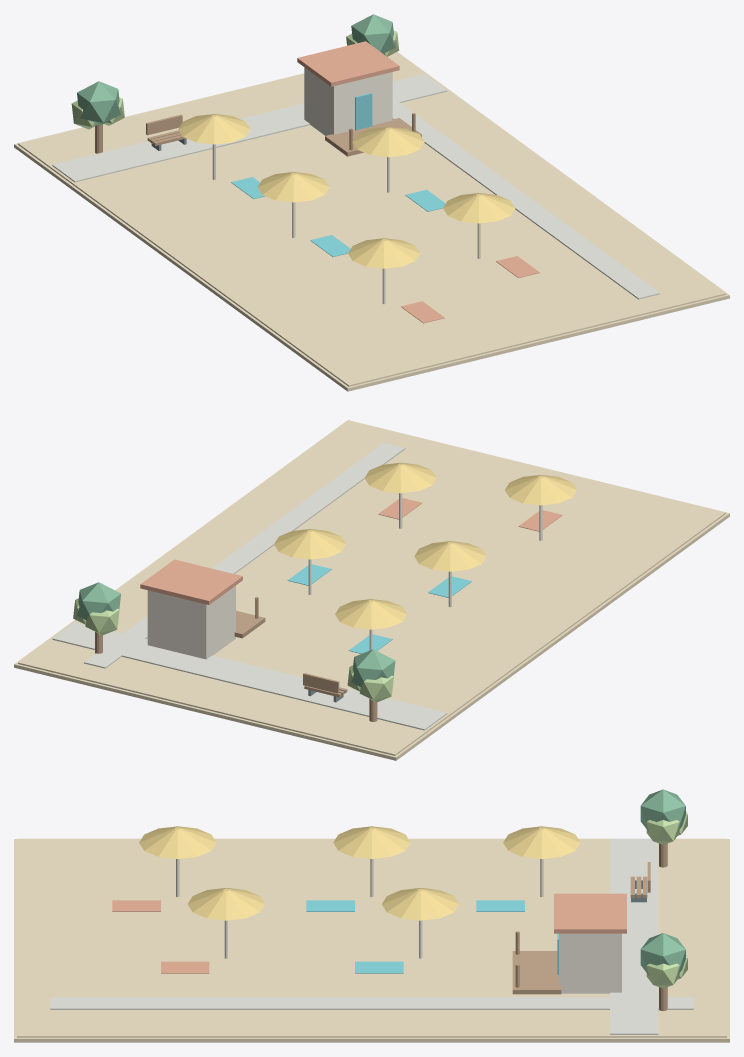
File: remaster_beach.glb
3 renders of one model, top to bottom at view 1: azimuth 30°, elevation 25°; view 2: azimuth 150°, elevation 25°; view 3: azimuth 270°, elevation 25°, orthographic. The views are drawn at different scales.
Parts seen in each view (by area): view 1: lot surface.003, walking path.005, walking path.004, lot foundation.003, lifeguard hut, hut roof, sun umbrella.005, sun umbrella.002, sun umbrella.004, sun umbrella.006, sun umbrella.003, tree canopy.024 (+3 smaller); view 2: lot surface.003, walking path.004, lifeguard hut, walking path.005, lot foundation.003, hut roof, sun umbrella.002, sun umbrella.005, sun umbrella.004, sun umbrella.006, sun umbrella.003, tree canopy.024 (+3 smaller); view 3: lot surface.003, walking path.005, walking path.004, lot foundation.003, lifeguard hut, hut roof, lifeguard deck, sun umbrella.003, sun umbrella.004, sun umbrella.005, sun umbrella.002, sun umbrella.006 (+9 smaller).
Part boxes in pixels (x1=…): lot surface.003: x1=18, y1=52, x2=725, y2=386; walking path.005: x1=392, y1=99, x2=659, y2=299; walking path.004: x1=52, y1=74, x2=447, y2=182; lot foundation.003: x1=14, y1=52, x2=729, y2=391; lifeguard hut: x1=304, y1=67, x2=392, y2=135; hut roof: x1=297, y1=41, x2=399, y2=86; sun umbrella.005: x1=352, y1=126, x2=424, y2=157; sun umbrella.002: x1=348, y1=238, x2=419, y2=268; sun umbrella.004: x1=257, y1=172, x2=329, y2=202; sun umbrella.006: x1=178, y1=114, x2=250, y2=144; sun umbrella.003: x1=443, y1=193, x2=514, y2=223; tree canopy.024: x1=77, y1=81, x2=120, y2=125; lot surface.003: x1=18, y1=420, x2=725, y2=755; walking path.004: x1=52, y1=622, x2=447, y2=730; lifeguard hut: x1=147, y1=586, x2=235, y2=659; walking path.005: x1=84, y1=443, x2=405, y2=668; lot foundation.003: x1=14, y1=420, x2=729, y2=760; hut roof: x1=140, y1=559, x2=242, y2=604; sun umbrella.002: x1=505, y1=475, x2=576, y2=505; sun umbrella.005: x1=274, y1=529, x2=346, y2=559; sun umbrella.004: x1=414, y1=541, x2=486, y2=571; sun umbrella.006: x1=335, y1=599, x2=407, y2=629; sun umbrella.003: x1=364, y1=462, x2=436, y2=493; tree canopy.024: x1=351, y1=649, x2=395, y2=687; lot surface.003: x1=17, y1=838, x2=726, y2=1037; walking path.005: x1=50, y1=997, x2=693, y2=1009; walking path.004: x1=610, y1=838, x2=658, y2=1034; lot foundation.003: x1=14, y1=839, x2=729, y2=1042; lifeguard hut: x1=559, y1=933, x2=621, y2=993; hut roof: x1=554, y1=893, x2=626, y2=933; lifeguard deck: x1=512, y1=951, x2=561, y2=994; sun umbrella.003: x1=187, y1=888, x2=264, y2=920; sun umbrella.004: x1=333, y1=826, x2=410, y2=858; sun umbrella.005: x1=382, y1=888, x2=459, y2=920; sun umbrella.002: x1=139, y1=826, x2=216, y2=858; sun umbrella.006: x1=503, y1=826, x2=580, y2=858.
Size of the model in its own units: 19.5 by 3.7 by 29.5.
